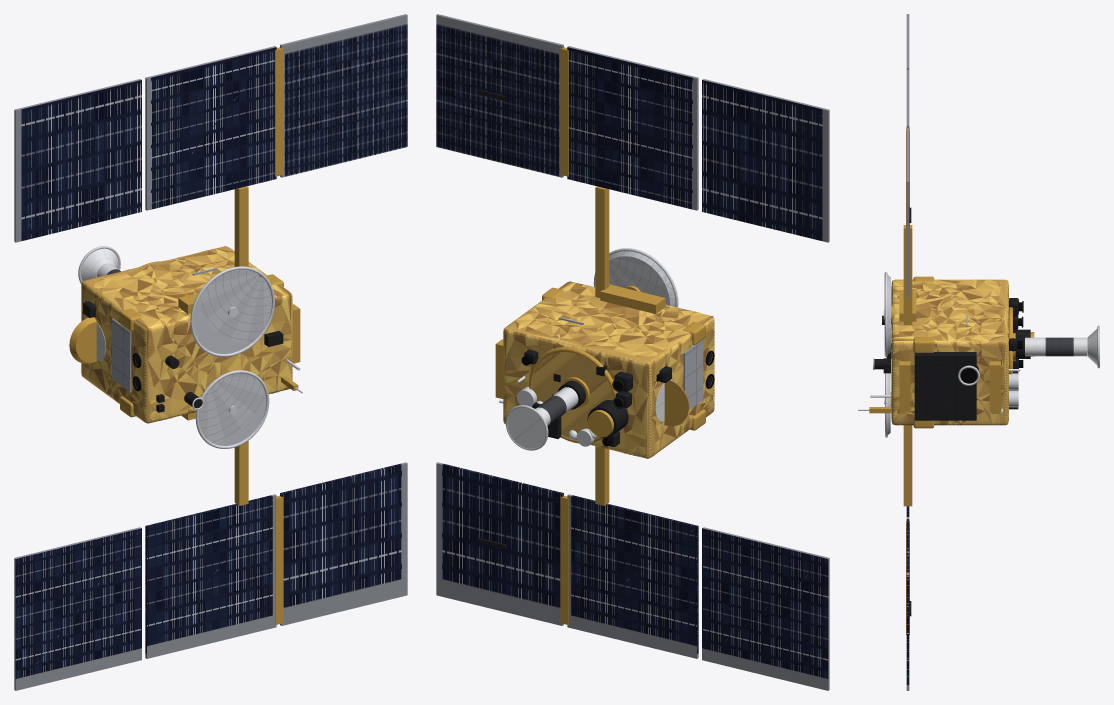
Rendered from hayabusa2_spacecraft.obj.
3 views of the same model, side by side, from view 1: azimuth 30°, elevation 25°; view 2: azimuth 150°, elevation 25°; view 3: azimuth 270°, elevation 25° (orthographic). The views are drawn at different scales.
Visible parts, largest first — view 1: 本体 (Main Body), 太陽電池パドル +Y翼パネル2, 太陽電池パドル -Y翼パネル2, 太陽電池パドル +Y翼パネル1, 太陽電池パドル -Y翼パネル1, 太陽電池パドル -Y翼パネル3, 太陽電池パドル +Y翼パネル3, X帯高利得アンテナ (XHGA), Ka帯高利得アンテナ (KaHGA), -X面ラジエータ, パドルヨーク (+Y翼)_1, パドルヒンジ (-Y翼)_1 (+6 smaller); view 2: 太陽電池パドル +Y翼パネル2, 太陽電池パドル -Y翼パネル2, 太陽電池パドル +Y翼パネル1, 太陽電池パドル -Y翼パネル1, 本体 (Main Body), 太陽電池パドル +Y翼パネル3, 太陽電池パドル -Y翼パネル3, 下面中央リング構造, X帯高利得アンテナ (XHGA), パドルヨーク (+Y翼)_1, サンプラホーン先端ベル, -X面ラジエータ (+7 smaller); view 3: 本体 (Main Body), イオンエンジン搭載パネル (IES), パドルヨーク (+Y翼)_1, パドルヨーク (-Y翼)_1, 太陽電池パドル +Y翼パネル3, 太陽電池パドル -Y翼パネル3, IPPU-A (イオンエンジン電源), IPPU-B (イオンエンジン電源), 中部ホーン (ベクトラン布・蛇腹), 上部ホーン (アルミ円筒).
Part boxes in pixels (box(x1,y1,x2,y2)): 本体 (Main Body): box(81, 246, 292, 423); 太陽電池パドル +Y翼パネル2: box(145, 46, 276, 210); 太陽電池パドル -Y翼パネル2: box(145, 494, 276, 658); 太陽電池パドル +Y翼パネル1: box(14, 79, 141, 242); 太陽電池パドル -Y翼パネル1: box(14, 527, 141, 690); 太陽電池パドル -Y翼パネル3: box(280, 462, 407, 625); 太陽電池パドル +Y翼パネル3: box(280, 14, 407, 177); X帯高利得アンテナ (XHGA): box(193, 269, 271, 353); Ka帯高利得アンテナ (KaHGA): box(199, 373, 266, 445); -X面ラジエータ: box(112, 318, 131, 391); パドルヨーク (+Y翼)_1: box(234, 186, 248, 266); パドルヒンジ (-Y翼)_1: box(275, 495, 283, 624); 太陽電池パドル +Y翼パネル2: box(567, 46, 698, 210); 太陽電池パドル -Y翼パネル2: box(567, 494, 698, 658); 太陽電池パドル +Y翼パネル1: box(702, 79, 829, 242); 太陽電池パドル -Y翼パネル1: box(702, 527, 829, 690); 本体 (Main Body): box(503, 281, 714, 458); 太陽電池パドル +Y翼パネル3: box(436, 14, 563, 177); 太陽電池パドル -Y翼パネル3: box(436, 462, 563, 625); 下面中央リング構造: box(532, 352, 613, 439); X帯高利得アンテナ (XHGA): box(609, 251, 675, 306); パドルヨーク (+Y翼)_1: box(595, 186, 609, 297); サンプラホーン先端ベル: box(507, 407, 545, 448); -X面ラジエータ: box(683, 340, 703, 410); 本体 (Main Body): box(891, 279, 1008, 425); イオンエンジン搭載パネル (IES): box(914, 352, 976, 420); パドルヨーク (+Y翼)_1: box(903, 225, 912, 324); パドルヨーク (-Y翼)_1: box(903, 425, 912, 506); 太陽電池パドル +Y翼パネル3: box(906, 128, 909, 297); 太陽電池パドル -Y翼パネル3: box(906, 521, 909, 690); IPPU-A (イオンエンジン電源): box(899, 361, 910, 411); IPPU-B (イオンエンジン電源): box(989, 361, 1000, 411); 中部ホーン (ベクトラン布・蛇腹): box(1045, 337, 1073, 356); 上部ホーン (アルミ円筒): box(1025, 337, 1045, 356).
Bounding box in the file's own units: 4.23 × 5.98 × 2.57.
10 materials, 7 textured.
